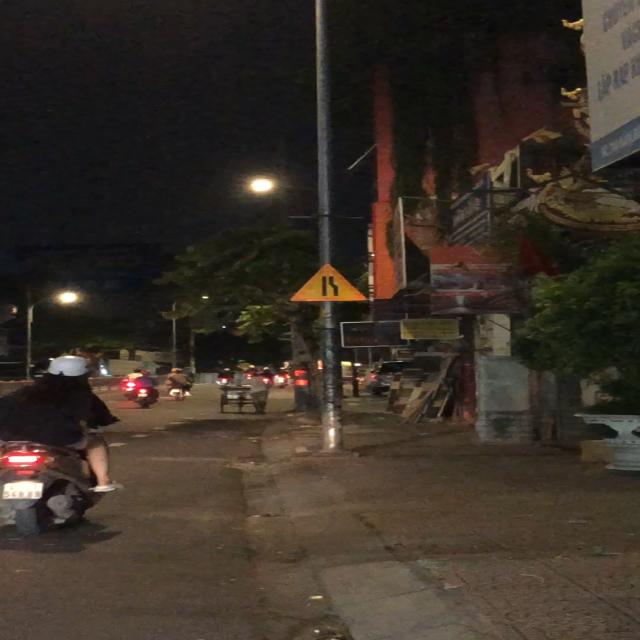Bien bao duong bi thu hep: (289, 262, 369, 302)
